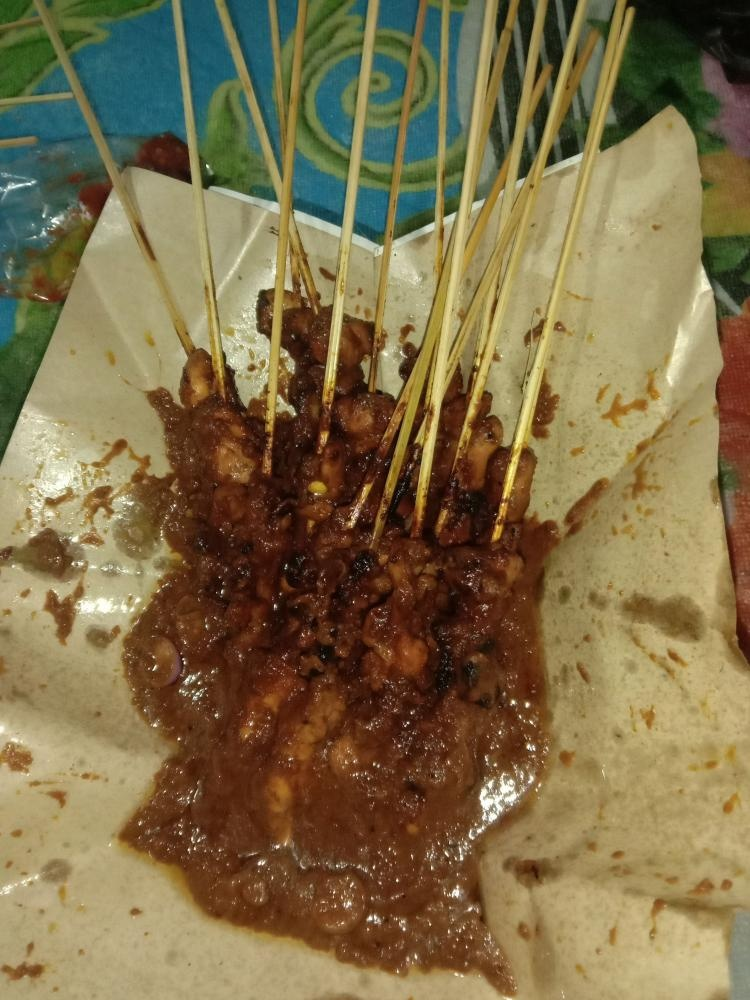sate_madura: (15, 1, 643, 780)
